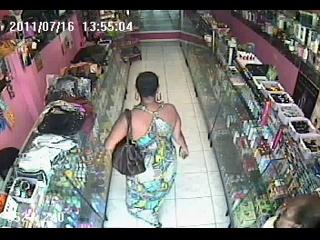Normal: (103, 71, 188, 226), (111, 110, 145, 176)
